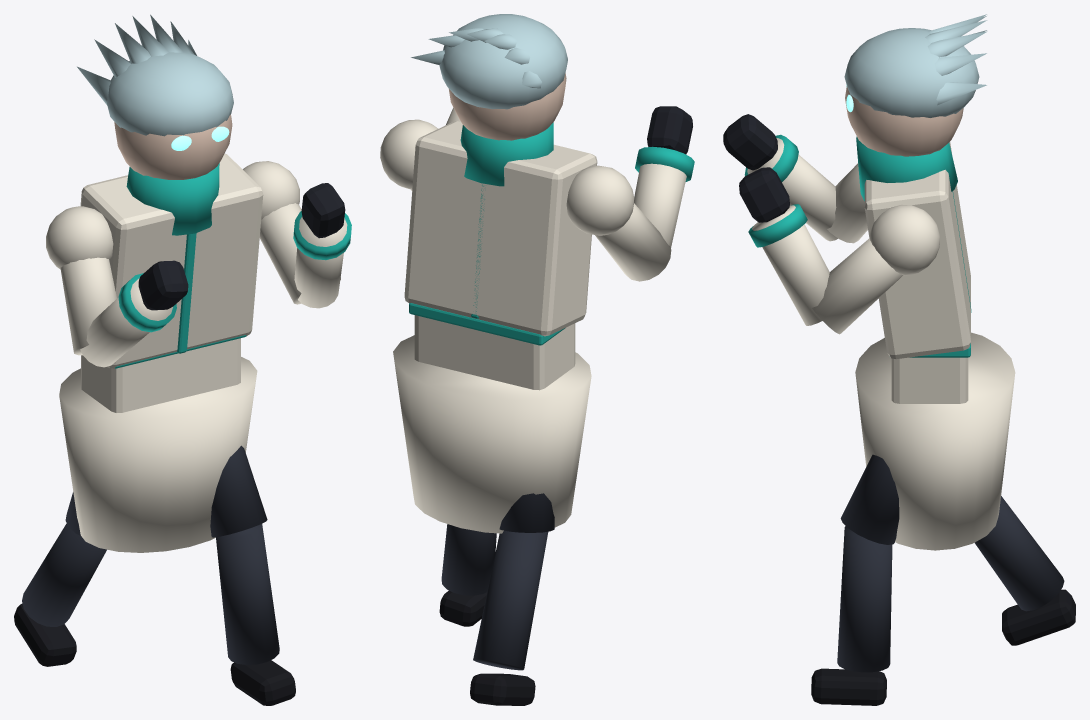
The model's file is akira_modelo.fbx.
The picture shows the model from 3 angles, left to right: view 1: azimuth 30°, elevation 25°; view 2: azimuth 150°, elevation 25°; view 3: azimuth 270°, elevation 25°; orthographic projection.
Visible parts, largest first — view 1: Akira_LowerTorso, Akira_UpperTorso, Akira_Head, Akira_LeftLowerLeg, Akira_RightUpperArm, Akira_RightLowerLeg, Akira_LeftUpperArm, Akira_RightLowerArm, Akira_LeftLowerArm, Akira_LeftUpperLeg, Akira_LeftFoot, Akira_RightFoot (+2 smaller); view 2: Akira_LowerTorso, Akira_UpperTorso, Akira_Head, Akira_RightLowerLeg, Akira_RightUpperArm, Akira_RightLowerArm, Akira_LeftLowerLeg, Akira_LeftUpperArm, Akira_RightFoot, Akira_RightHand, Akira_RightUpperLeg, Akira_LeftFoot; view 3: Akira_LowerTorso, Akira_UpperTorso, Akira_Head, Akira_LeftUpperArm, Akira_LeftLowerLeg, Akira_LeftLowerArm, Akira_RightLowerLeg, Akira_RightLowerArm, Akira_LeftUpperLeg, Akira_LeftFoot, Akira_RightFoot, Akira_RightHand (+2 smaller).
Part boxes in pixels (x1,y1,x2,y2): Akira_LowerTorso: (59,335,257,552); Akira_UpperTorso: (80,153,263,368); Akira_Head: (77,14,233,179); Akira_LeftLowerLeg: (216,524,279,664); Akira_RightUpperArm: (46,206,116,355); Akira_RightLowerLeg: (22,523,106,626); Akira_LeftUpperArm: (243,161,340,304); Akira_RightLowerArm: (80,273,176,367); Akira_LeftLowerArm: (293,211,351,308); Akira_LeftUpperLeg: (210,445,267,537); Akira_LeftFoot: (230,660,295,705); Akira_RightFoot: (14,603,76,666); Akira_LowerTorso: (393,303,591,533); Akira_UpperTorso: (404,121,597,336); Akira_Head: (411,14,567,140); Akira_RightLowerLeg: (473,530,548,670); Akira_RightUpperArm: (566,165,671,281); Akira_RightLowerArm: (634,146,694,247); Akira_LeftLowerLeg: (441,524,496,595); Akira_LeftUpperArm: (380,119,437,191); Akira_RightFoot: (470,673,535,705); Akira_RightHand: (647,106,692,154); Akira_RightUpperLeg: (499,493,554,532); Akira_LeftFoot: (439,590,487,626); Akira_LowerTorso: (855,332,1015,550); Akira_UpperTorso: (856,136,971,359); Akira_Head: (844,14,987,156); Akira_LeftUpperArm: (812,205,939,334); Akira_LeftLowerLeg: (837,526,892,672); Akira_LeftLowerArm: (748,204,829,325); Akira_RightLowerLeg: (975,496,1064,611); Akira_RightLowerArm: (744,134,837,241); Akira_LeftUpperLeg: (840,454,899,544); Akira_LeftFoot: (811,668,886,705); Akira_RightFoot: (1002,589,1075,645); Akira_RightHand: (723,114,777,170).
Size of the model in its own units: 218 by 526 by 258.
